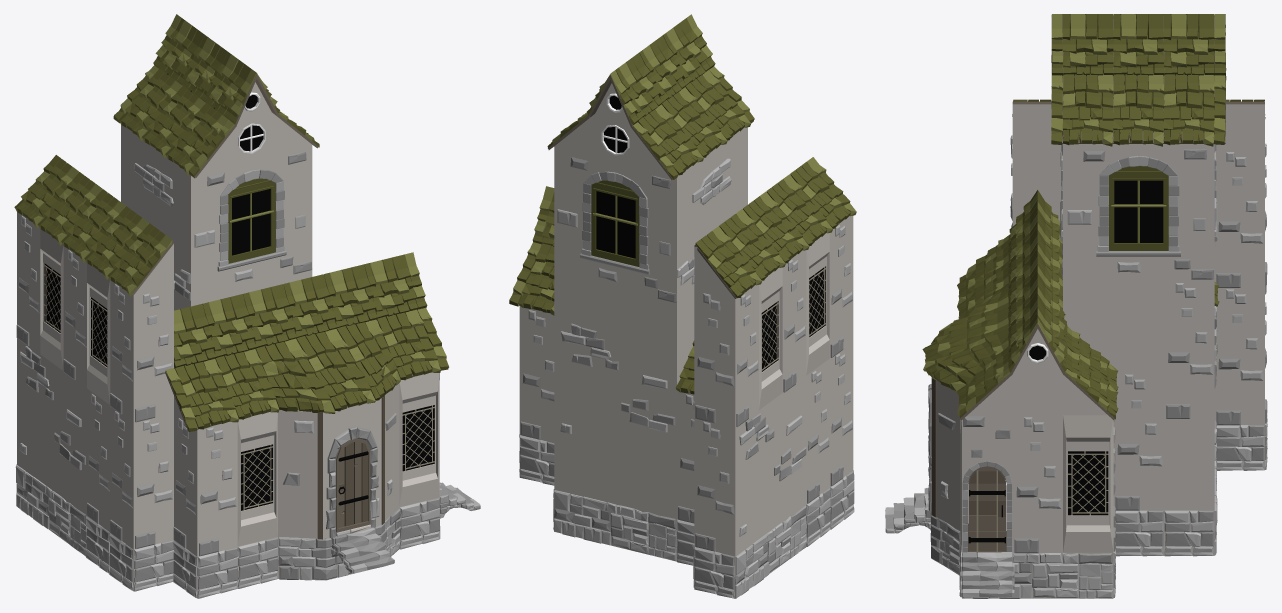
Rendered from House_14.glb.
3 renders of one model, left to right at view 1: azimuth 30°, elevation 25°; view 2: azimuth 150°, elevation 25°; view 3: azimuth 270°, elevation 25°, orthographic. The views are drawn at different scales.
Visible parts, largest first — view 1: BALKON_04_2, WINDOW_05_10, ROOF_base_round_2, WALL_01_3, WALL_03_3, WINDOW_04_4, WINDOW_04_3, WALL_06_6, WALL_06_5, WALL_06_13, FOUNDATION_01_2, WALL_06_11 (+43 smaller); view 2: WALL_01_2, WINDOW_05_11, WALL_01_3, WALL_03_3, WALL_06_22, WALL_06_20, FOUNDATION_03_3, WALL_06_7, WALL_06_11, WALL_06_17, WALL_06_16, FOUNDATION_03_2 (+40 smaller); view 3: WINDOW_05_12, WALL_06_3, WINDOW_04_2, DOOR_01_3, WALL_06_9, WALL_06_26, WALL_06_4, WALL_06_24, ROOF_base_round_2, FOUNDATION_03_4, BALKON_04_2, ROOF_BASE_17 (+49 smaller).
Boxes of the visible parts, left/top/right/bottom form: BALKON_04_2: left=278, top=383, right=399, bottom=539; WINDOW_05_10: left=193, top=145, right=312, bottom=300; ROOF_base_round_2: left=255, top=319, right=400, bottom=413; WALL_01_3: left=17, top=338, right=86, bottom=514; WALL_03_3: left=121, top=125, right=193, bottom=300; WINDOW_04_4: left=237, top=412, right=277, bottom=546; WINDOW_04_3: left=399, top=372, right=439, bottom=506; WALL_06_6: left=133, top=412, right=173, bottom=548; WALL_06_5: left=197, top=421, right=237, bottom=556; WALL_06_13: left=133, top=286, right=173, bottom=422; FOUNDATION_01_2: left=278, top=507, right=400, bottom=580; WALL_06_11: left=110, top=406, right=134, bottom=549; WALL_01_2: left=554, top=317, right=676, bottom=475; WINDOW_05_11: left=554, top=146, right=677, bottom=304; WALL_01_3: left=733, top=376, right=806, bottom=555; WALL_03_3: left=674, top=127, right=747, bottom=304; WALL_06_22: left=694, top=289, right=736, bottom=427; WALL_06_20: left=694, top=418, right=736, bottom=555; FOUNDATION_03_3: left=554, top=489, right=676, bottom=561; WALL_06_7: left=519, top=306, right=554, bottom=442; WALL_06_11: left=829, top=341, right=853, bottom=486; WALL_06_17: left=782, top=250, right=806, bottom=392; WALL_06_16: left=829, top=215, right=853, bottom=358; FOUNDATION_03_2: left=734, top=504, right=806, bottom=598; WINDOW_05_12: left=1063, top=144, right=1214, bottom=281; WALL_06_3: left=1012, top=415, right=1062, bottom=553; WINDOW_04_2: left=1063, top=415, right=1113, bottom=552; DOOR_01_3: left=962, top=415, right=1012, bottom=552; WALL_06_9: left=1164, top=281, right=1214, bottom=418; WALL_06_26: left=1214, top=150, right=1264, bottom=287; WALL_06_4: left=1113, top=372, right=1163, bottom=510; WALL_06_24: left=1214, top=287, right=1264, bottom=425; ROOF_base_round_2: left=922, top=283, right=1008, bottom=392; FOUNDATION_03_4: left=962, top=552, right=1113, bottom=598; BALKON_04_2: left=928, top=377, right=960, bottom=529; ROOF_BASE_17: left=1062, top=73, right=1113, bottom=146.
Bounding box in the file's own units: 8.12 × 11.14 × 7.57.
Materials: 1 (1 with a texture image).
